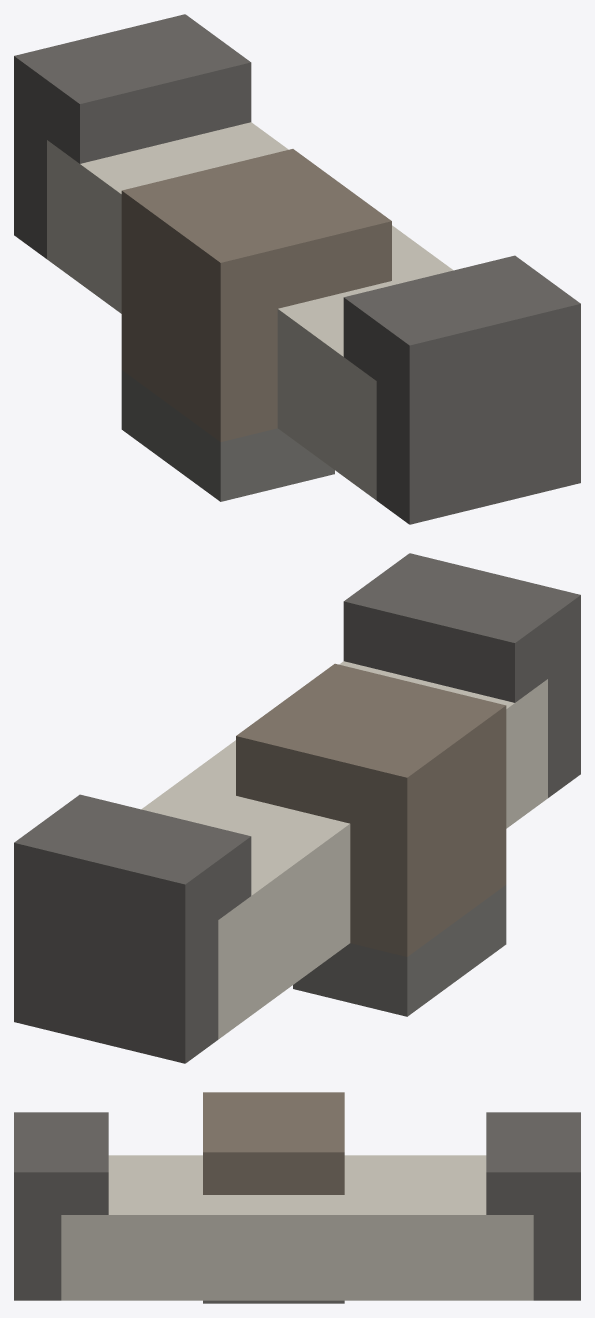
File: ballesta_bonificada_01.glb
The picture shows the model from 3 angles, top to bottom: view 1: azimuth 30°, elevation 25°; view 2: azimuth 150°, elevation 25°; view 3: azimuth 270°, elevation 25°; orthographic projection. The views are drawn at different scales.
Visible parts, largest first — view 1: ballesta_bonificada; view 2: ballesta_bonificada; view 3: ballesta_bonificada.
Boxes of the visible parts, bbox=[...] form: ballesta_bonificada: bbox=[14, 14, 580, 524]; ballesta_bonificada: bbox=[14, 553, 580, 1063]; ballesta_bonificada: bbox=[14, 1092, 580, 1303].
Size of the model in its own units: 0.3333 by 0.3333 by 1.
